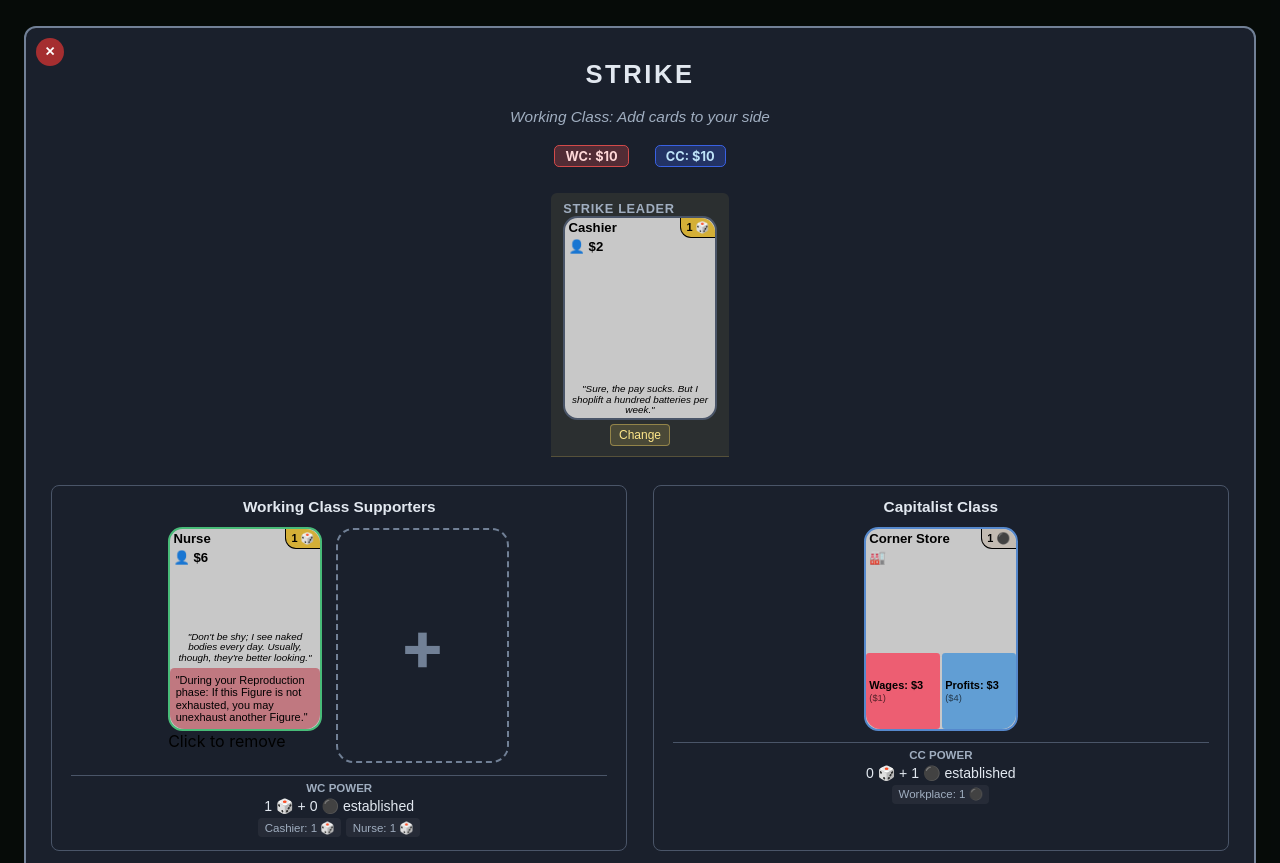
ConflictModal: Strike layout › 'Change' button becomes 'Cancel' when swap mode is active
The image size is (1280, 863).
Click the button "Change" at [640, 435], box [610, 424, 670, 446]
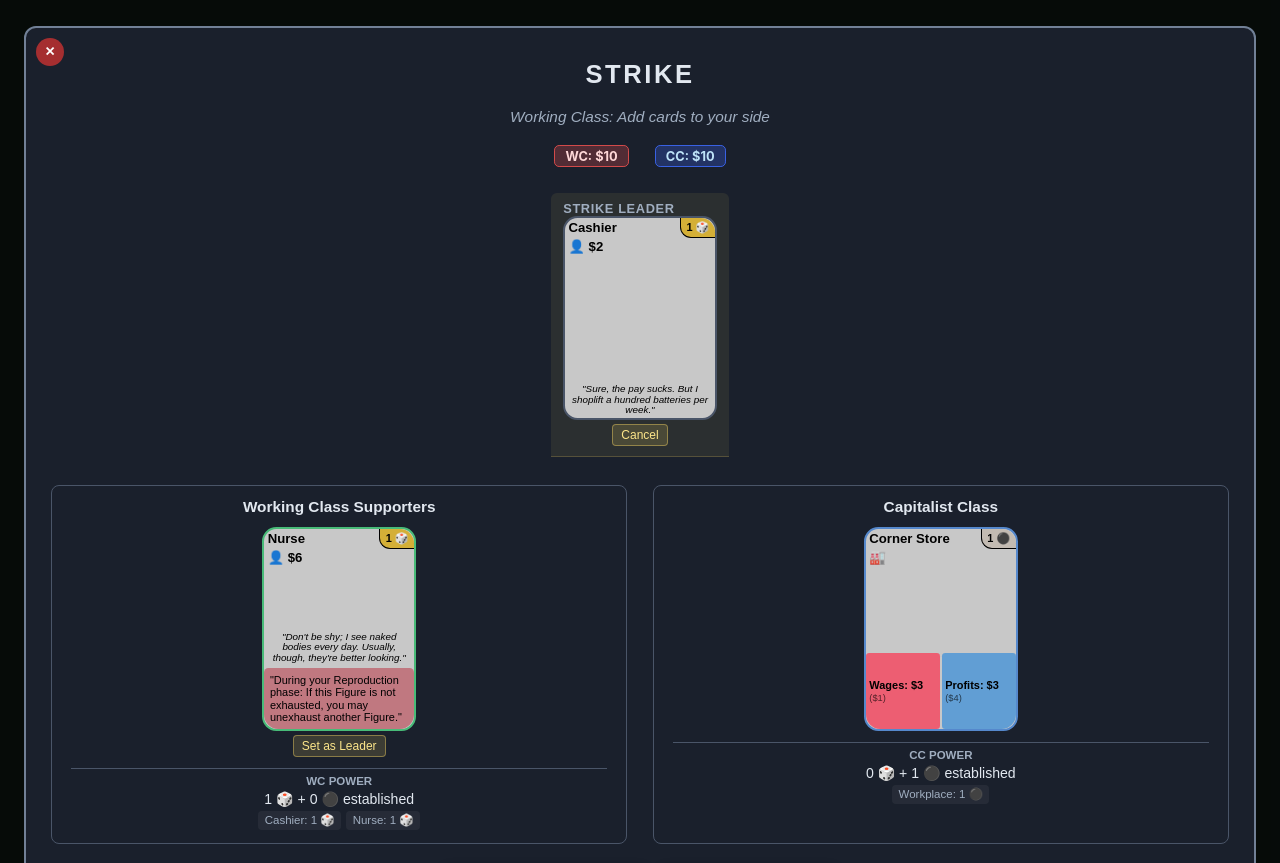
Now the button "Cancel" is shown, box [612, 424, 668, 446]
